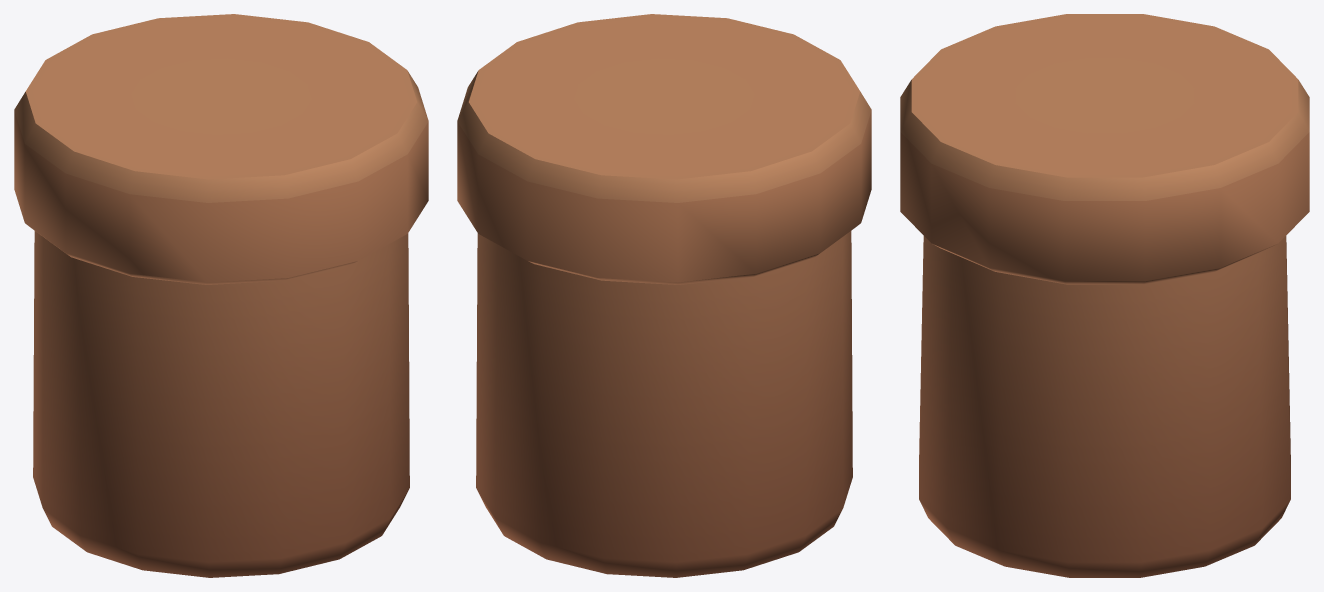
Rendered from tin-a-brown.glb.
3 views of the same model, side by side, from view 1: azimuth 30°, elevation 25°; view 2: azimuth 150°, elevation 25°; view 3: azimuth 270°, elevation 25° (orthographic).
Visible parts, largest first — view 1: tin_A_brown; view 2: tin_A_brown; view 3: tin_A_brown.
Boxes of the visible parts, bbox=[...] form: tin_A_brown: bbox=[14, 14, 428, 577]; tin_A_brown: bbox=[457, 14, 871, 577]; tin_A_brown: bbox=[900, 14, 1309, 577].
Bounding box in the file's own units: 0.4 × 0.4485 × 0.4.
Materials: 1 (1 with a texture image).
